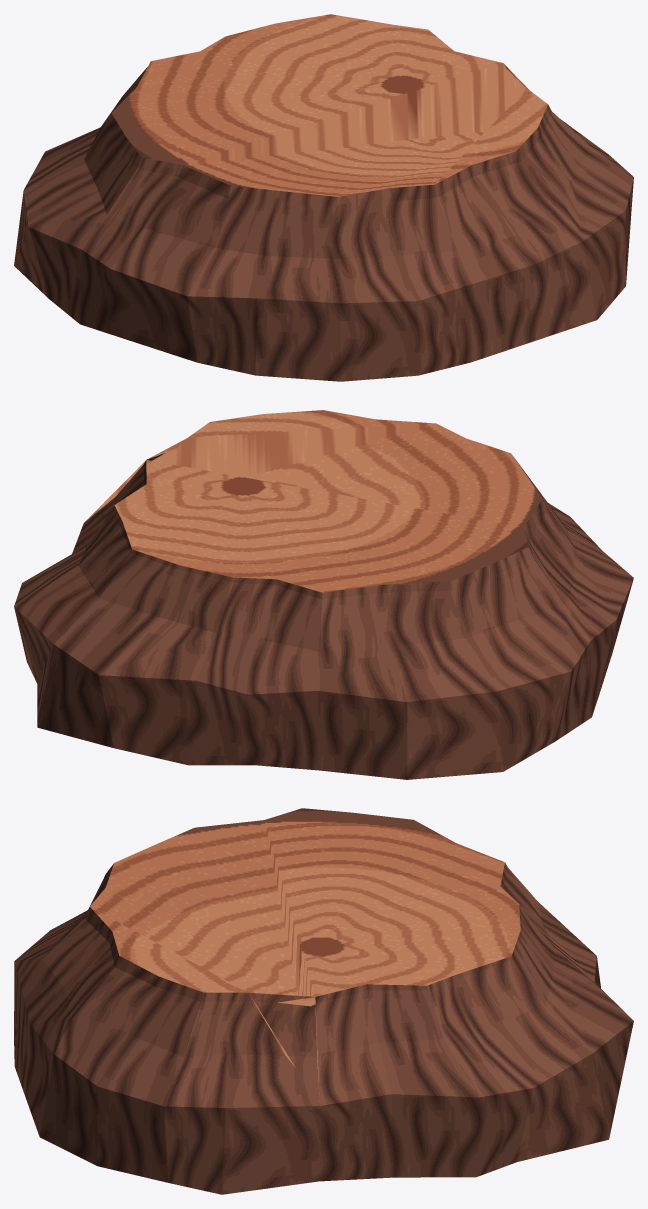
The model's file is environment_redwood2_stump_v2.fbx.
3 renders of one model, top to bottom at view 1: azimuth 30°, elevation 25°; view 2: azimuth 150°, elevation 25°; view 3: azimuth 270°, elevation 25°, orthographic. The views are drawn at different scales.
Parts seen in each view (by area): view 1: environment_redwood2_stump_v2; view 2: environment_redwood2_stump_v2; view 3: environment_redwood2_stump_v2.
Part boxes in pixels (x1,y1,x2,y2): environment_redwood2_stump_v2: (14,14,633,381); environment_redwood2_stump_v2: (14,410,633,779); environment_redwood2_stump_v2: (14,808,633,1194).
Bounding box in the file's own units: 717 × 200 × 704.
